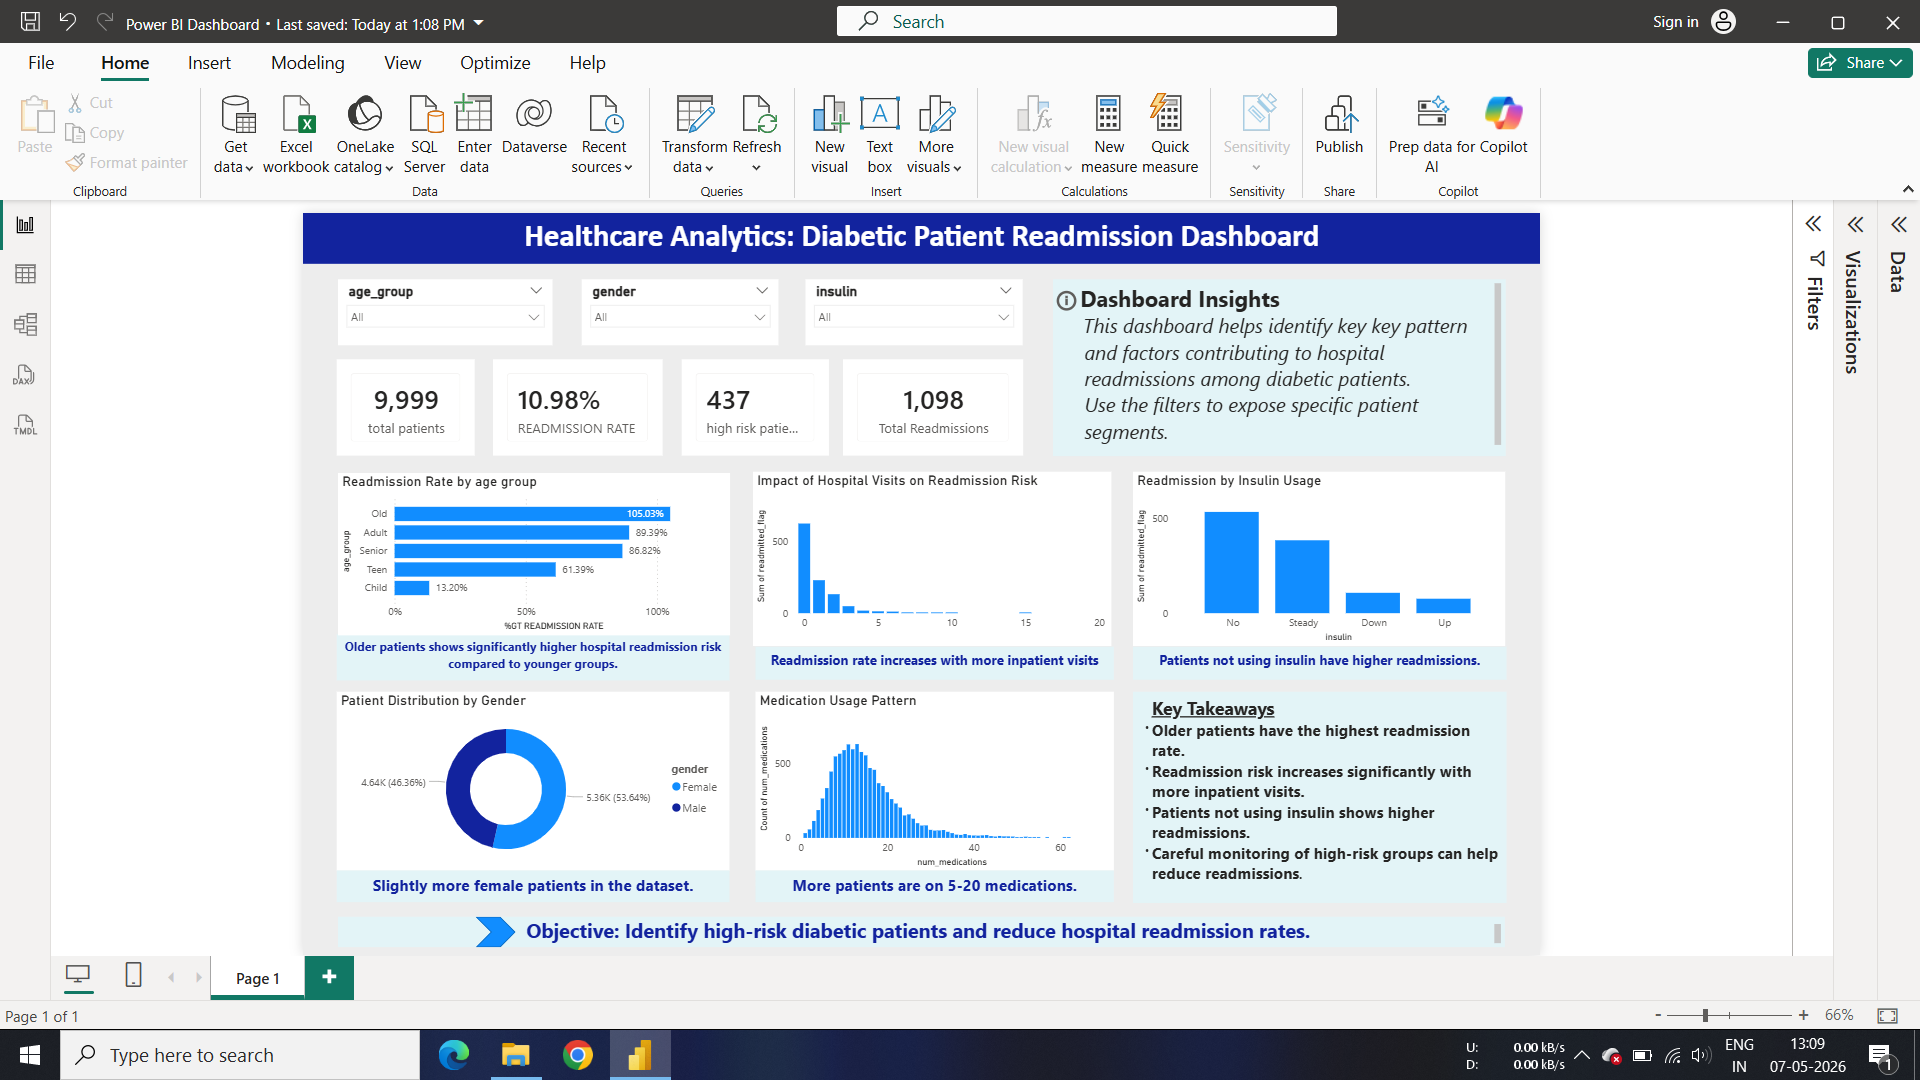

The dashboard page shown, as its layout file describes it:
{"tool":"powerbi","page":{"name":"Page 1","canvas":[1500,900],"ordinal":0},"visuals":[{"type":"cardVisual","fields":{"Data":["Patient.total patients"]},"box":[41.4,177.1,167.1,117.1],"z":0},{"type":"cardVisual","fields":{"Data":["Patient.READMISSION RATE"]},"box":[230,177.1,205.7,117.1],"z":1000},{"type":"cardVisual","fields":{"Data":["Patient.high risk patients"]},"box":[458.6,177.1,178.6,117.1],"z":2000},{"type":"donutChart","title":"Patient Distribution by Gender","fields":{"Category":["Patient.gender"],"Y":["CountNonNull(Patient.gender)"]},"box":[41.4,580,475.7,217.1],"z":4000},{"type":"columnChart","title":"Impact of Hospital Visits on Readmission Risk","fields":{"Category":["Patient.number_inpatient"],"Y":["Sum(Patient.readmitted_flag)"]},"box":[545.7,314.3,434.3,211.4],"z":5000},{"type":"columnChart","title":"Medication Usage Pattern","fields":{"Category":["Patient.num_medications"],"Y":["CountNonNull(Patient.num_medications)"]},"box":[548.6,580,434.3,217.1],"z":6000},{"type":"columnChart","title":"Readmission by Insulin Usage","fields":{"Category":["Patient.insulin"],"Y":["Sum(Patient.readmitted_flag)"]},"box":[1005.7,314.3,451.4,211.4],"z":7000},{"type":"slicer","fields":{"Values":["Patient.age_group"]},"box":[42.9,80,260,80],"z":8000},{"type":"slicer","fields":{"Values":["Patient.gender"]},"box":[338.6,80,238.6,80],"z":9000},{"type":"slicer","fields":{"Values":["Patient.insulin"]},"box":[608.6,80,262.9,80],"z":10000},{"type":"textbox","box":[0,0,1500,61.4],"z":11000},{"type":"cardVisual","fields":{"Data":["Patient.Total Readmissions"]},"box":[654,177,218,117],"z":12000},{"type":"textbox","box":[908.6,80,548.6,214.3],"z":13000},{"type":"textbox","box":[41.4,510,475.7,55.7],"z":14000},{"type":"textbox","box":[548.6,525.7,434.3,40],"z":15000},{"type":"textbox","box":[1005.7,525.7,452.9,40],"z":16000},{"type":"textbox","box":[548.6,797.1,434.3,38.6],"z":17000},{"type":"textbox","box":[41.4,797.1,475.7,38.6],"z":18000},{"type":"textbox","box":[42.9,852.9,1414.3,37.1],"z":19000},{"type":"shape","box":[208.6,852.9,48.6,37.1],"z":20000},{"type":"shape","box":[1032.9,590,22.9,21.4],"z":21000},{"type":"textbox","box":[1005.7,580,452.9,255.7],"z":22000},{"type":"actionButton","box":[908.6,80,32.9,51.4],"z":23000},{"type":"barChart","title":"Readmission Rate by age group","fields":{"Category":["Patient.age_group"],"Y":["Patient.READMISSION RATE"]},"box":[41.7,315,475,196.7],"z":23001}]}

Visuals, with their boxes on the page's 1500x900 design canvas (x1, y1, x2, y2). These are canvas units, not pixel positions in the 1920x1080 screenshot, which may show the page scaled, cropped or inside an application window:
cardVisual - Patient.total patients: 41/177/208/294
cardVisual - Patient.READMISSION RATE: 230/177/436/294
cardVisual - Patient.high risk patients: 459/177/637/294
"Patient Distribution by Gender" donutChart: 41/580/517/797
"Impact of Hospital Visits on Readmission Risk" columnChart: 546/314/980/526
"Medication Usage Pattern" columnChart: 549/580/983/797
"Readmission by Insulin Usage" columnChart: 1006/314/1457/526
slicer - Patient.age_group: 43/80/303/160
slicer - Patient.gender: 339/80/577/160
slicer - Patient.insulin: 609/80/872/160
textbox: 0/0/1500/61
cardVisual - Patient.Total Readmissions: 654/177/872/294
textbox: 909/80/1457/294
textbox: 41/510/517/566
textbox: 549/526/983/566
textbox: 1006/526/1459/566
textbox: 549/797/983/836
textbox: 41/797/517/836
textbox: 43/853/1457/890
shape: 209/853/257/890
shape: 1033/590/1056/611
textbox: 1006/580/1459/836
actionButton: 909/80/942/131
"Readmission Rate by age group" barChart: 42/315/517/512
